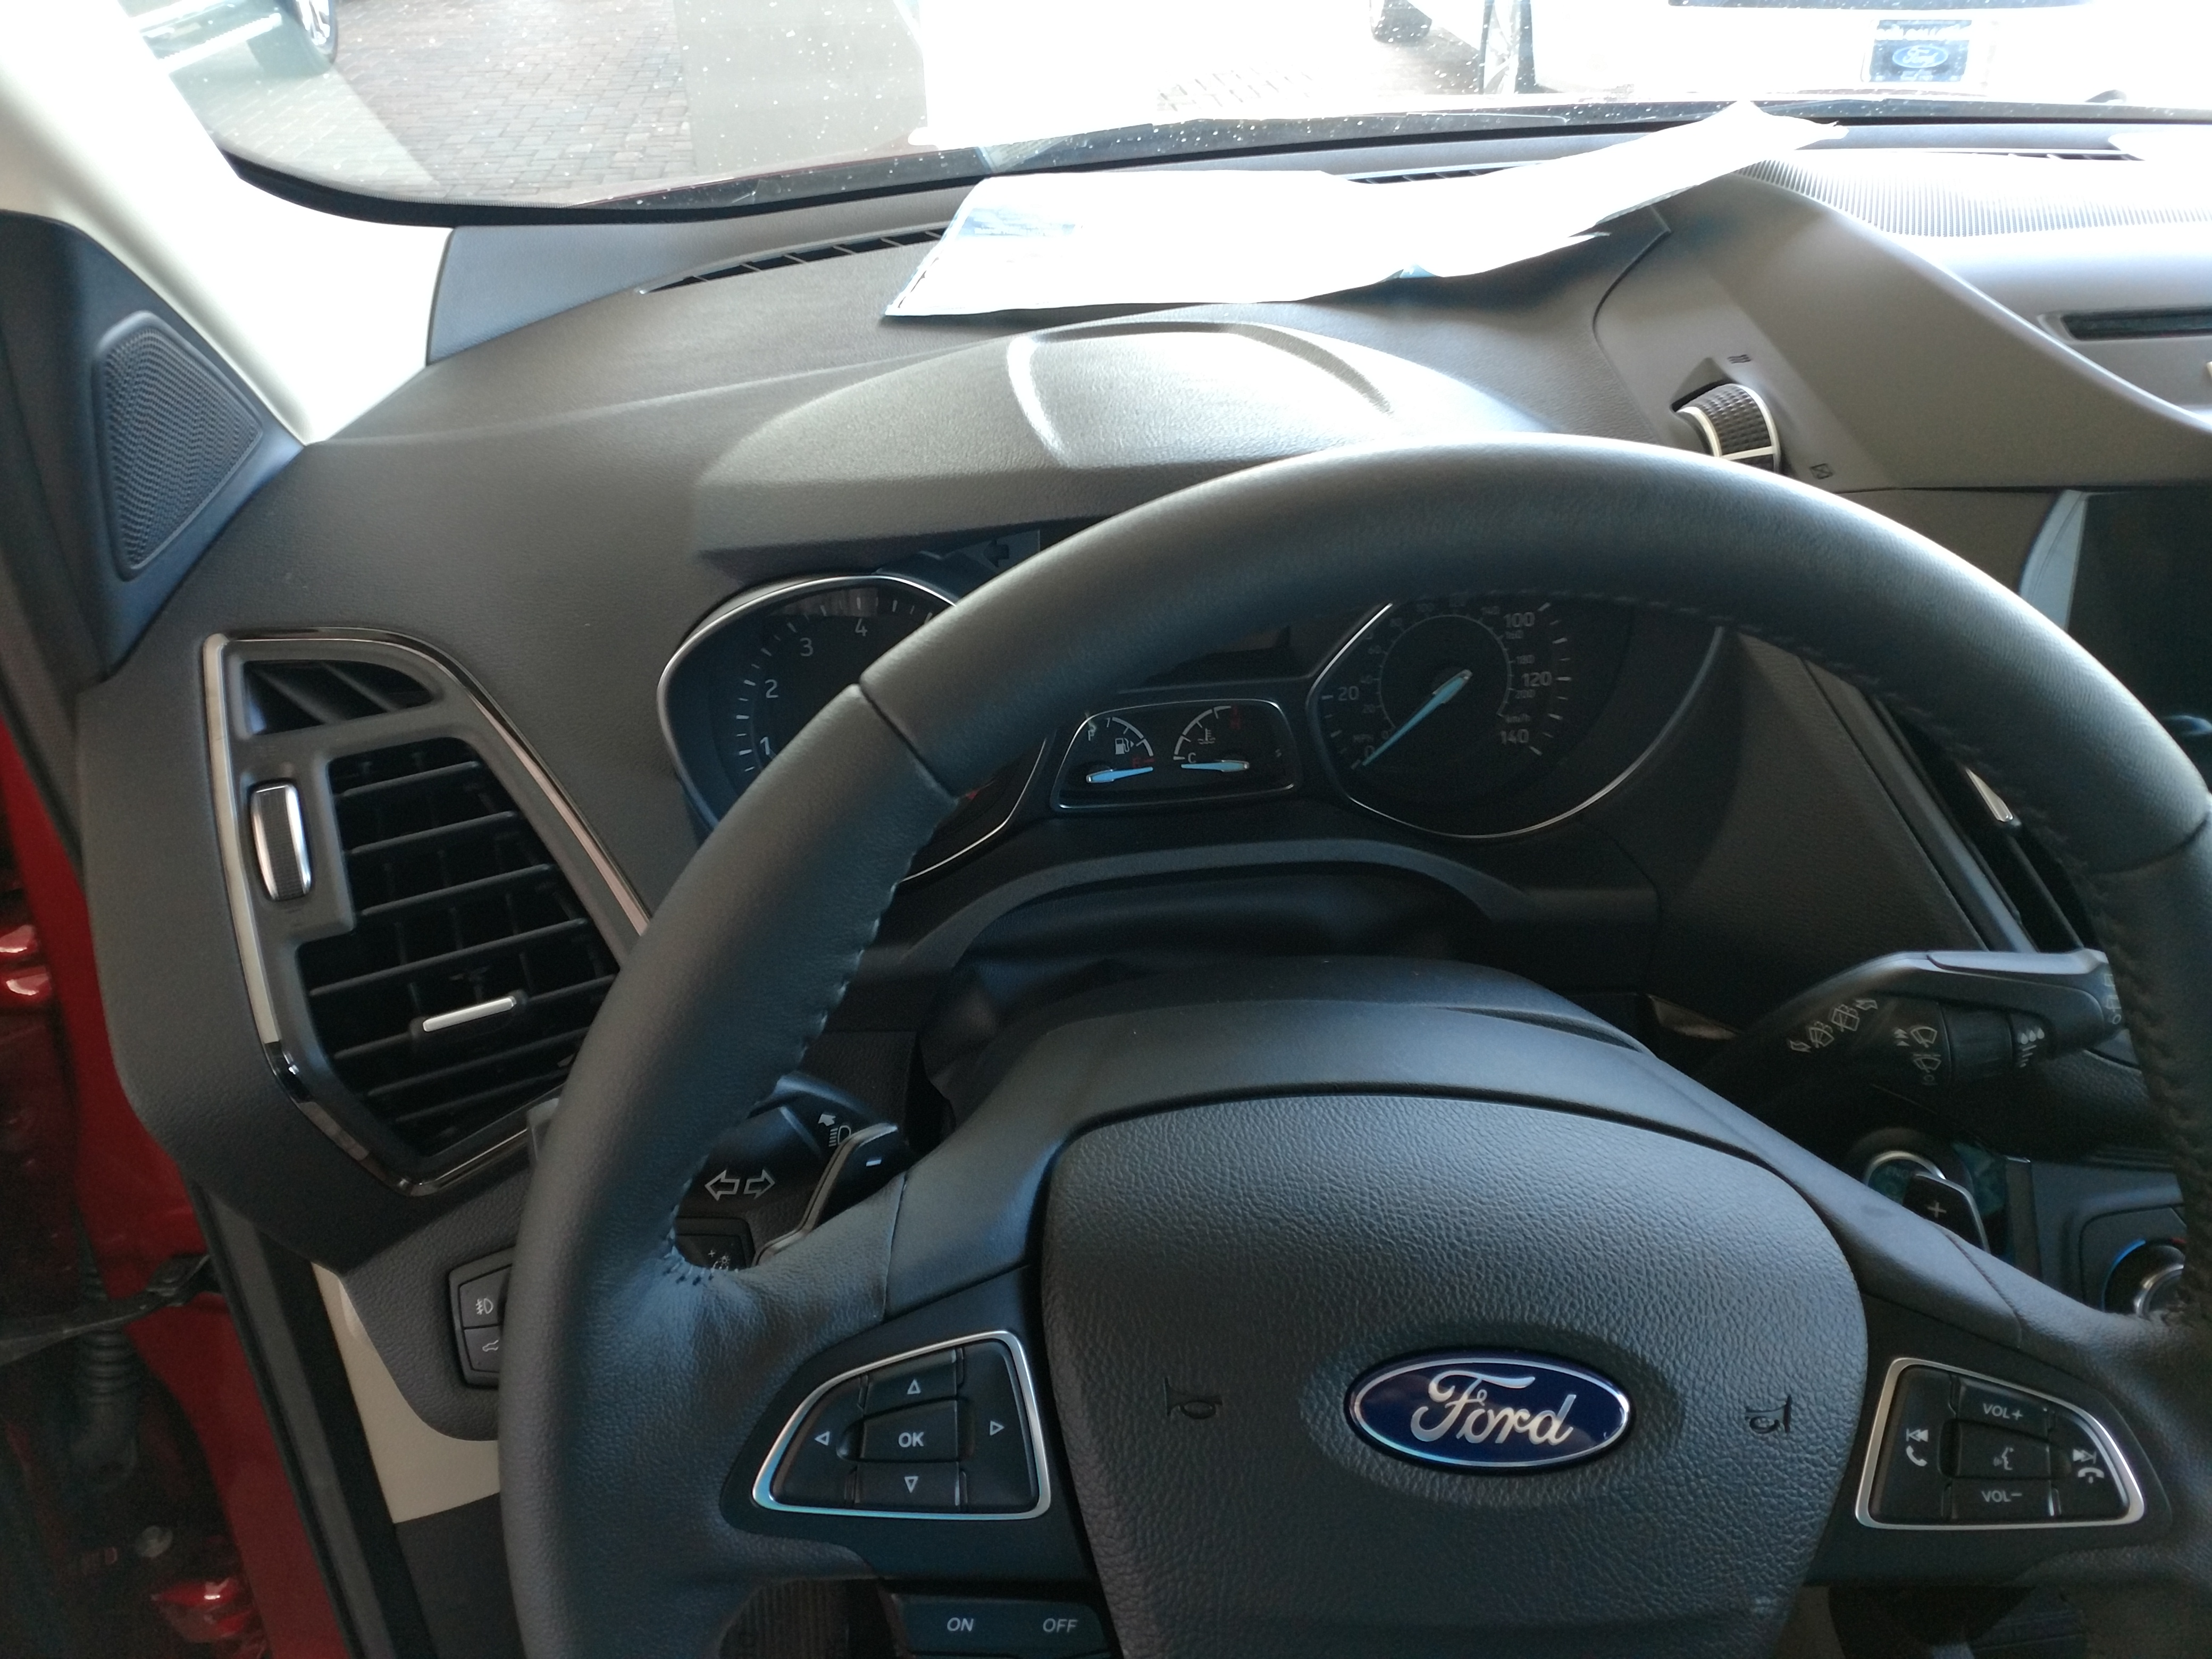Ford: (1336, 1344, 1644, 1481)
